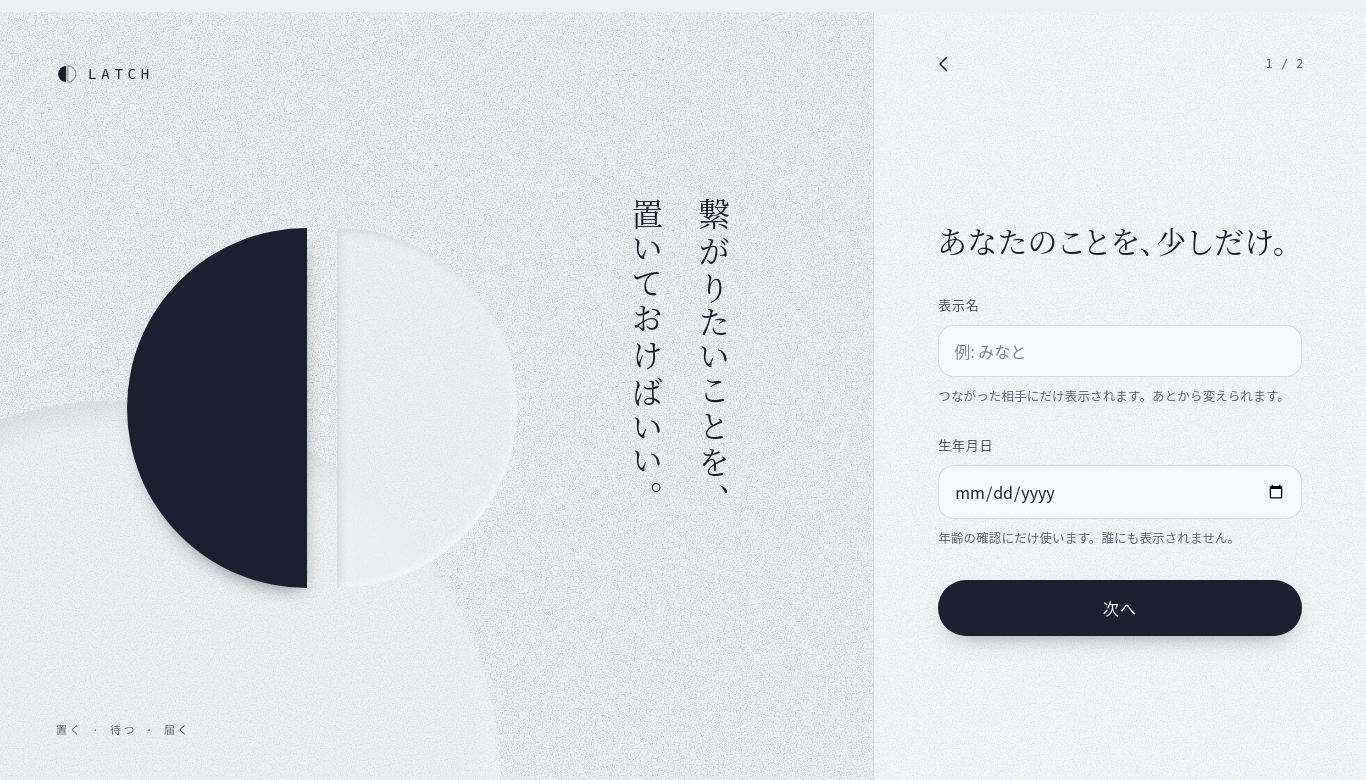
Scenario: Register › 18歳の入力でPOST /v1/usersを呼び・トークンを付け替えてconsentへ進む
Type "ゆき" into the field labelled "表示名". click: (1120, 351)
box: [938,325,1302,377]
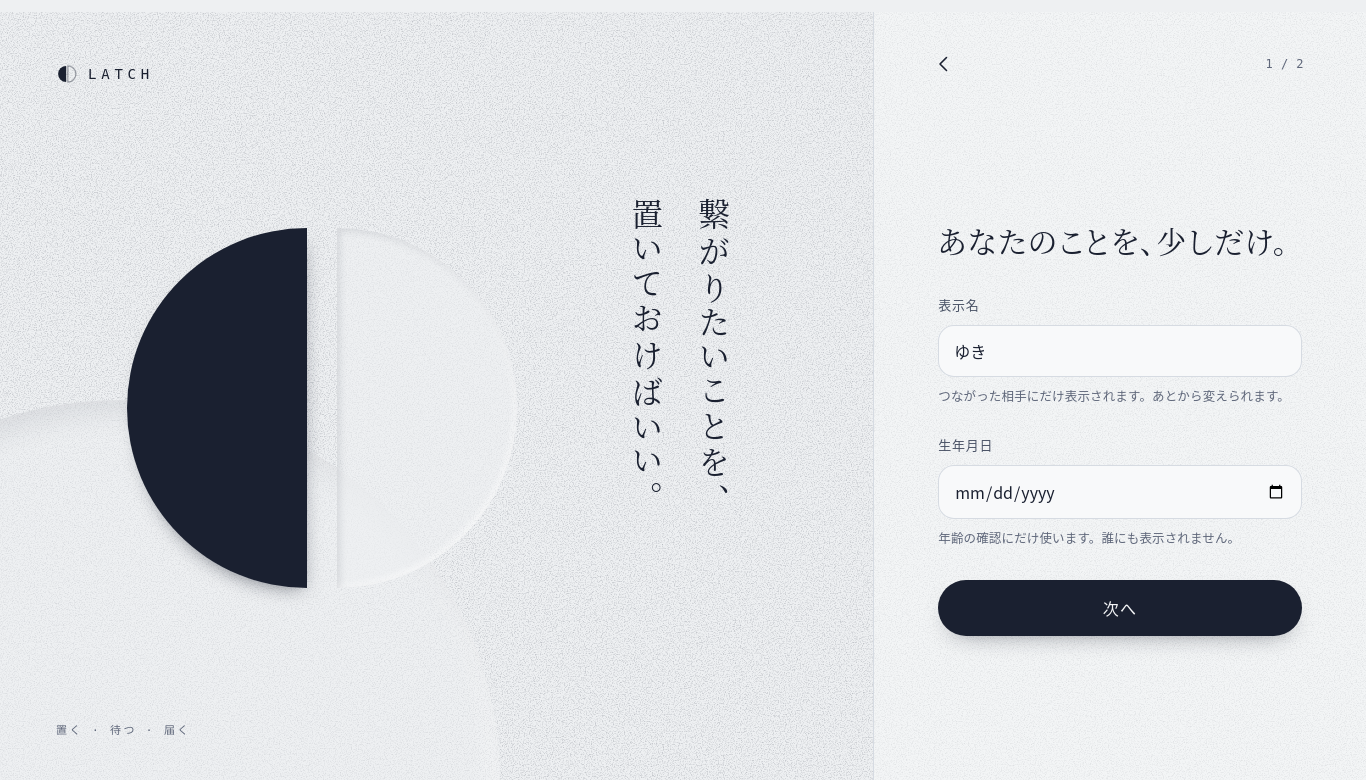
Type "2008-01-01" into the date field labelled "生年月日". click: (1120, 492)
box: [938,465,1302,519]
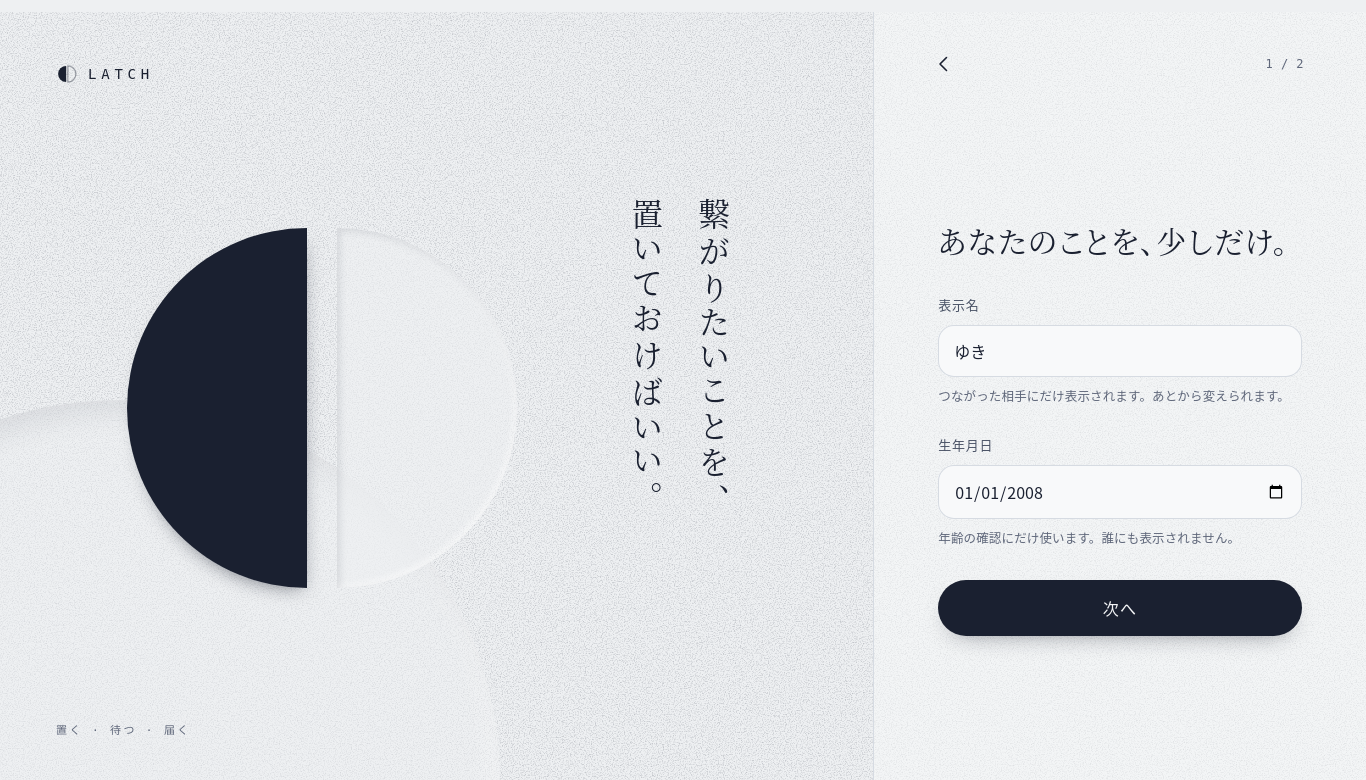
Click the button "次へ". click: (1120, 608)
box: [938,580,1302,636]
(page scrolled)
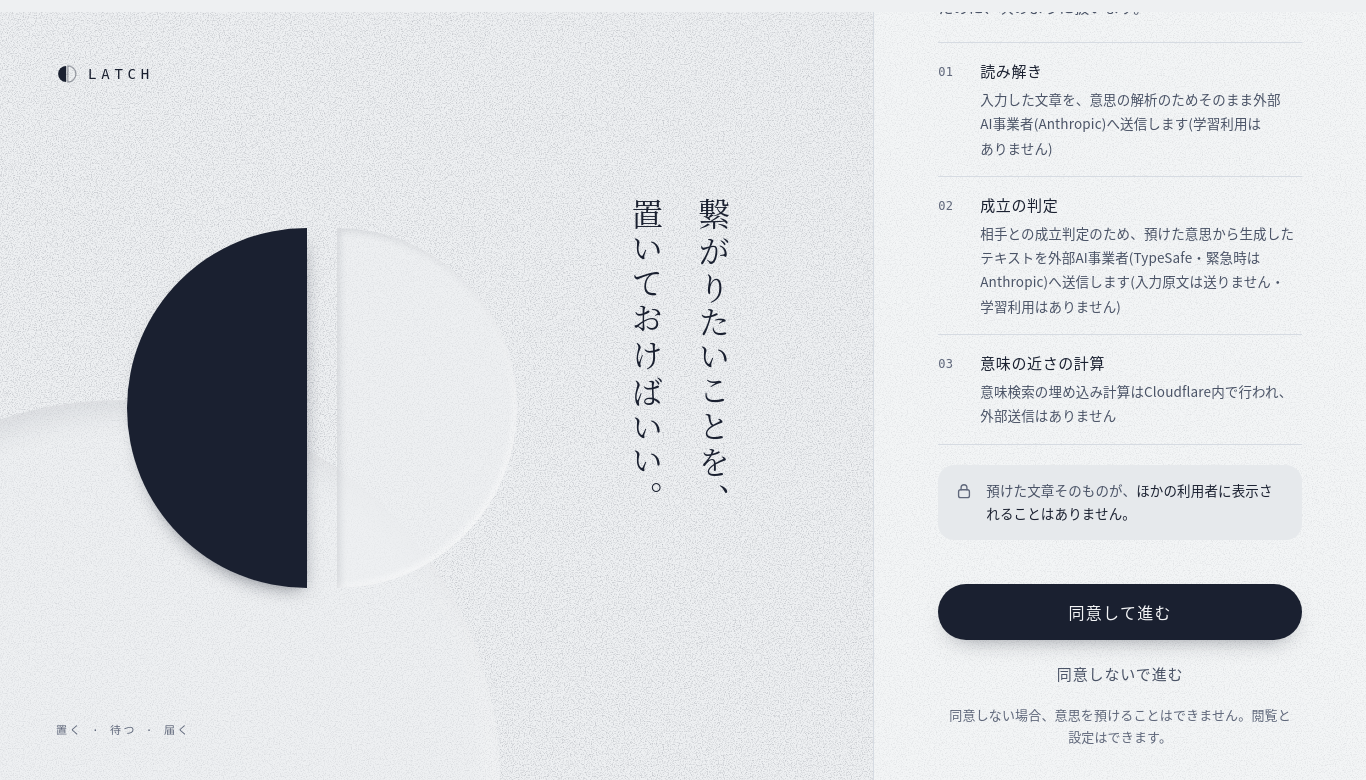
Check: the button "同意して進む" is shown, box [938,584,1302,640]
